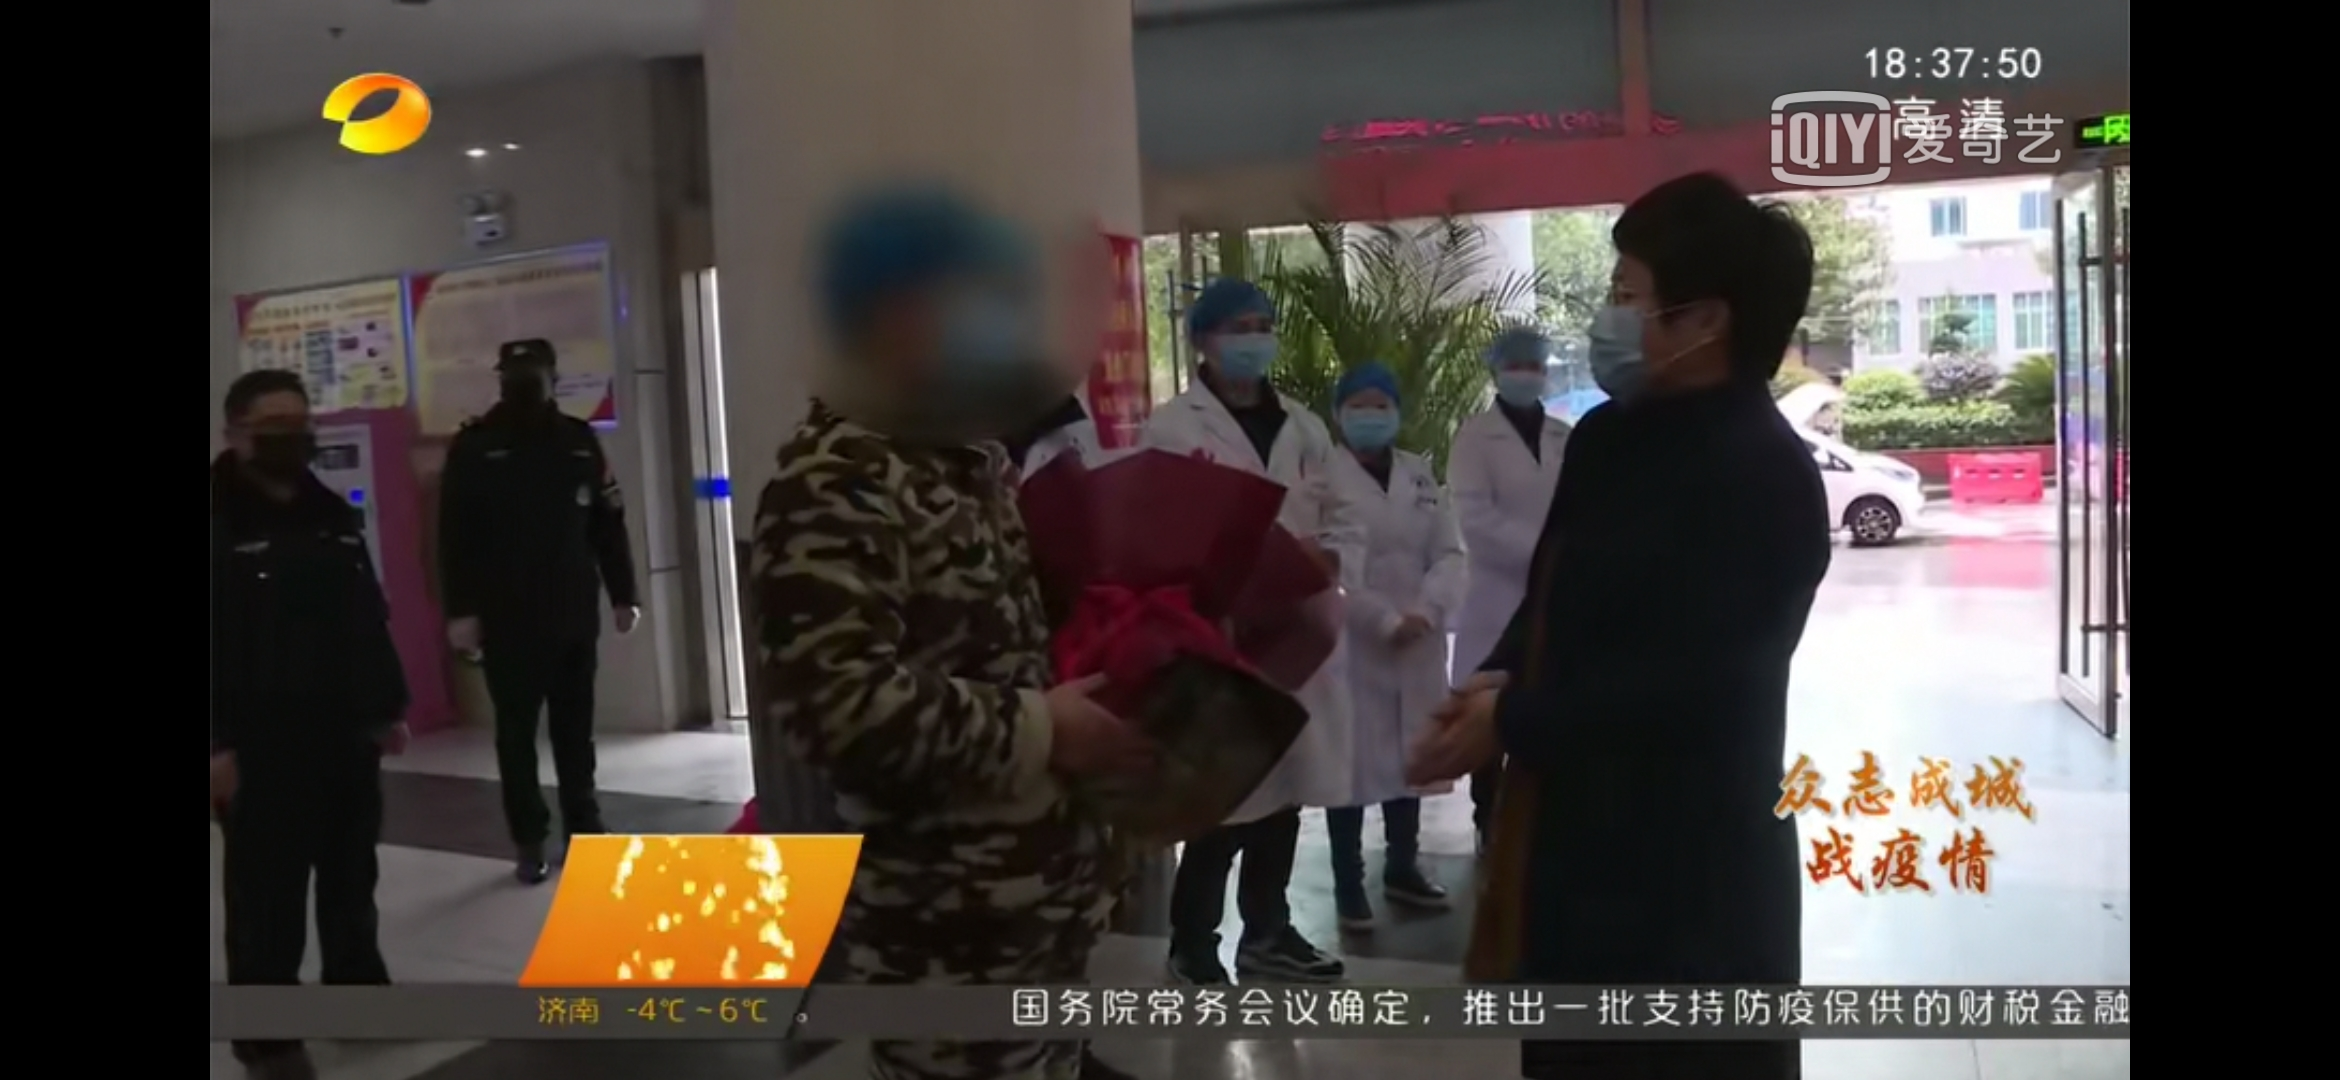correctlyWear: (1586, 242, 1730, 400), (219, 400, 319, 477), (1191, 306, 1279, 385), (1333, 392, 1401, 450), (1491, 348, 1552, 407), (492, 360, 560, 412)
